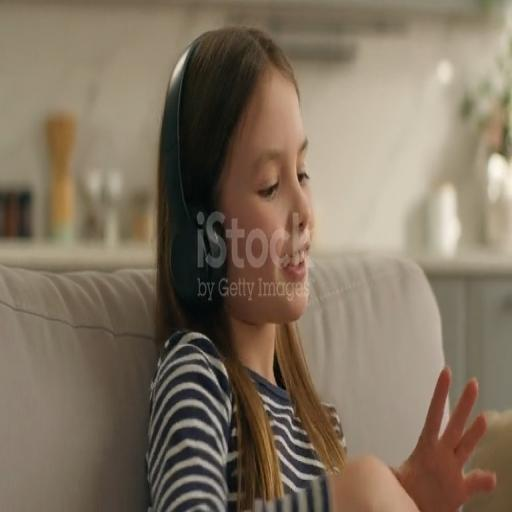earphone: (170, 18, 244, 319)
